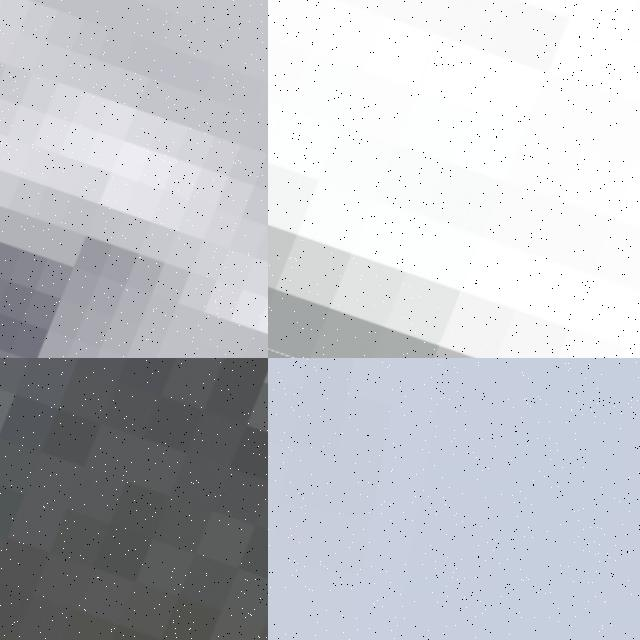drone: (268, 0, 640, 358), (0, 0, 268, 358), (0, 358, 268, 640)
